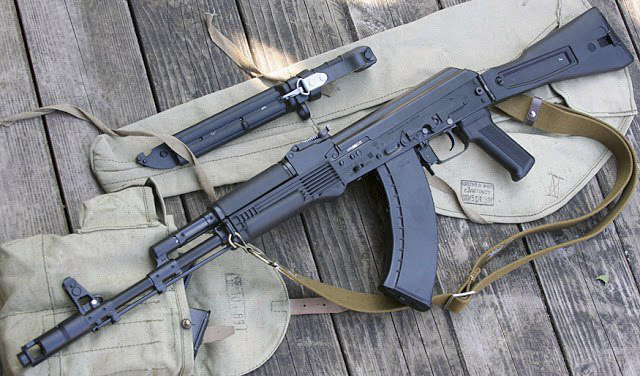Rifle: (14, 7, 633, 376)
